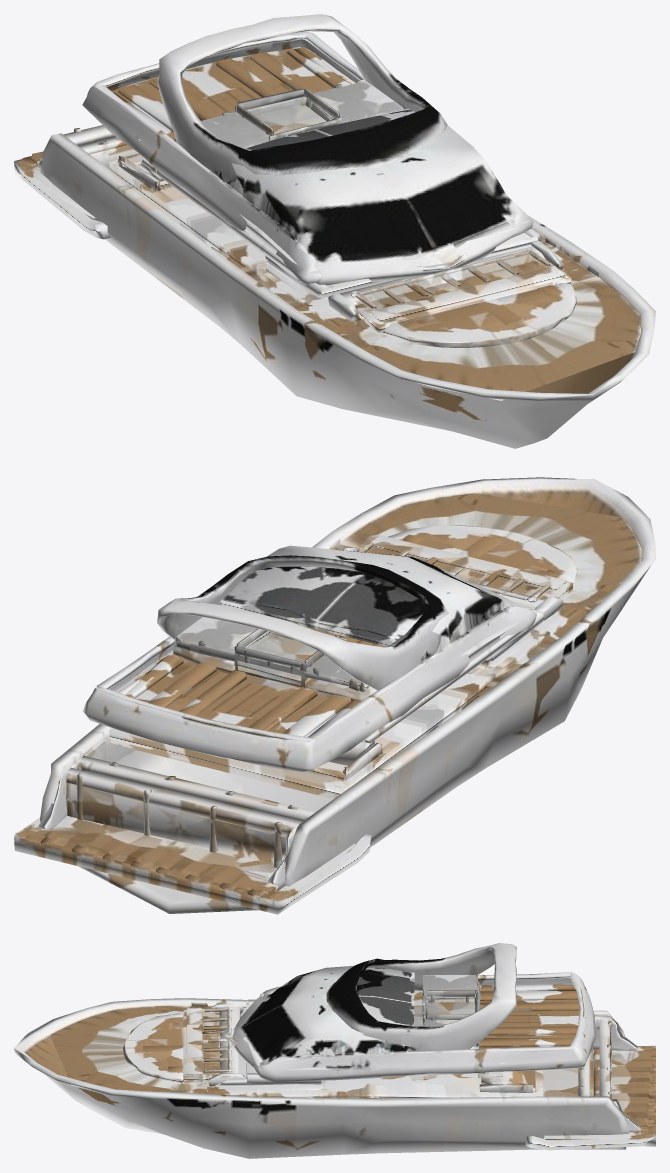
The model's file is boat_yacht.glb.
3 views of the same model, one above another, from view 1: azimuth 30°, elevation 25°; view 2: azimuth 150°, elevation 25°; view 3: azimuth 270°, elevation 25° (orthographic). The views are drawn at different scales.
Visible parts, largest first — view 1: frame; view 2: frame; view 3: frame.
Part boxes in pixels (x1=…): frame: x1=14, y1=14, x2=655, y2=448; frame: x1=14, y1=477, x2=655, y2=914; frame: x1=14, y1=943, x2=655, y2=1158.
Size of the model in its own units: 7.4 by 5.92 by 19.99.
1 material, 1 textured.
